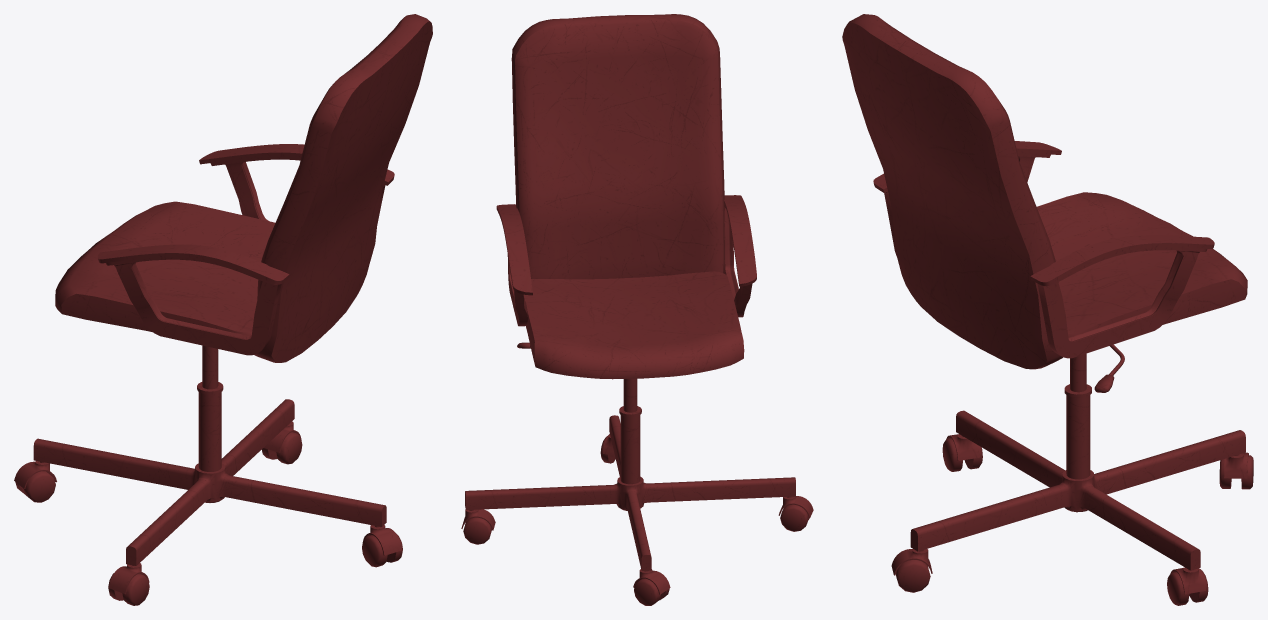
The model's file is Chairfbx.fbx.
3 views of the same model, side by side, from view 1: azimuth 30°, elevation 25°; view 2: azimuth 150°, elevation 25°; view 3: azimuth 270°, elevation 25° (orthographic). The views are drawn at different scales.
Parts seen in each view (by area): view 1: Chair; view 2: Chair; view 3: Chair.
Part boxes in pixels (left/top/right/bottom): Chair: left=14, top=14, right=432, bottom=605; Chair: left=461, top=14, right=813, bottom=605; Chair: left=842, top=14, right=1253, bottom=605.
Size of the model in its own units: 85.64 by 126 by 86.73.
